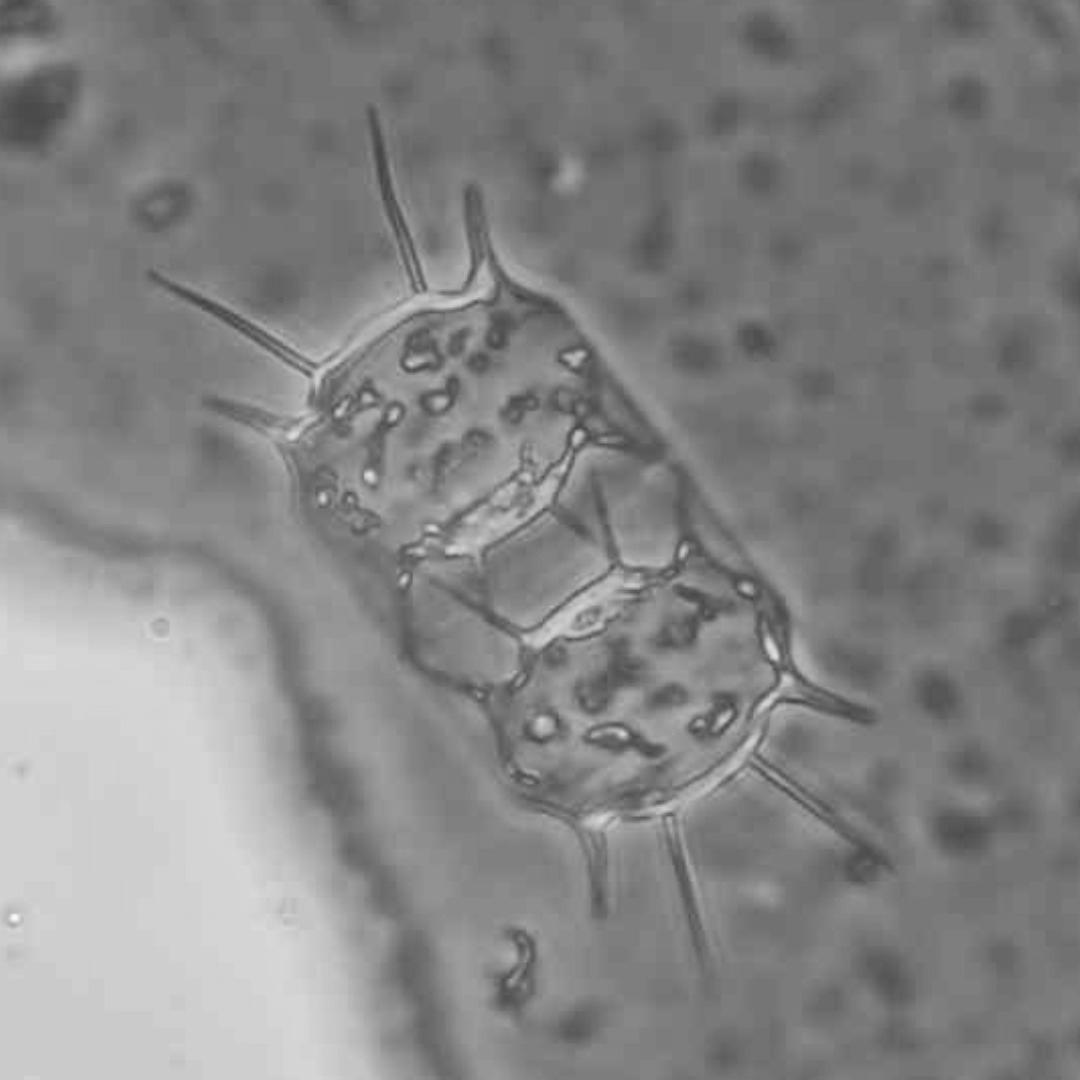odontella_mobiliensis: (140, 99, 676, 660), (401, 455, 894, 956)
